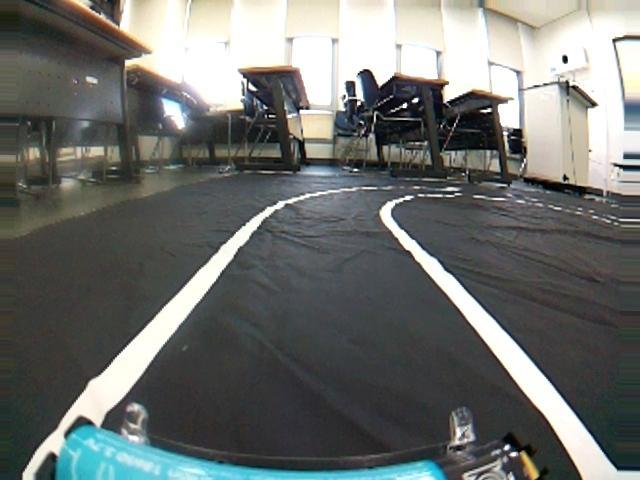straight: (20, 233, 640, 479)
